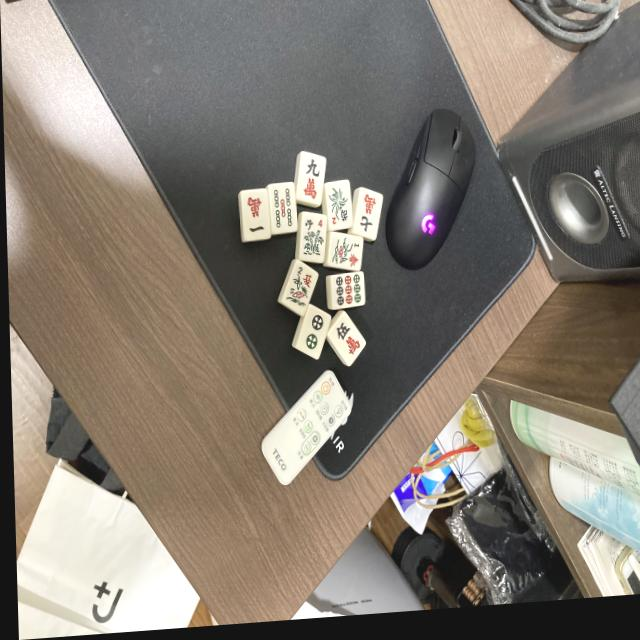f2: (326, 182, 353, 234)
f4: (298, 213, 327, 265)
ff1: (327, 231, 364, 274)
ff2: (279, 261, 319, 317)
m1: (241, 190, 271, 242)
m5: (329, 310, 369, 367)
m7: (351, 189, 384, 242)
m9: (297, 153, 328, 207)
s5: (270, 183, 297, 233)
t2: (292, 304, 333, 361)
t9: (331, 272, 366, 311)
